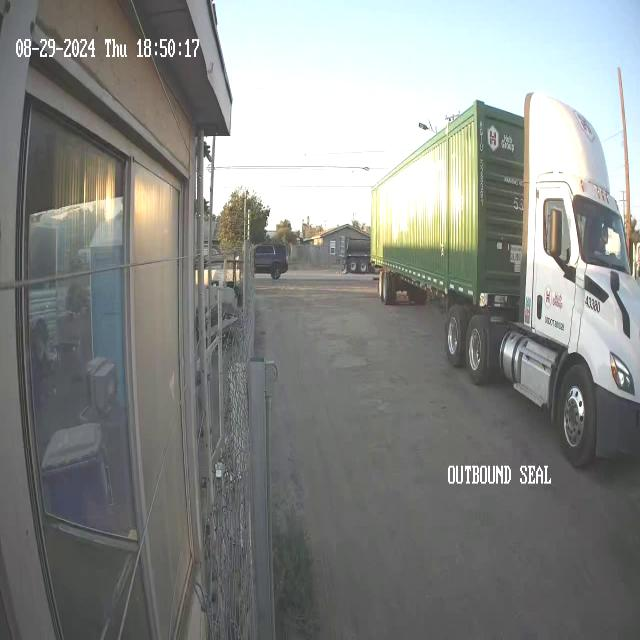CONTAINER: (370, 90, 524, 310)
